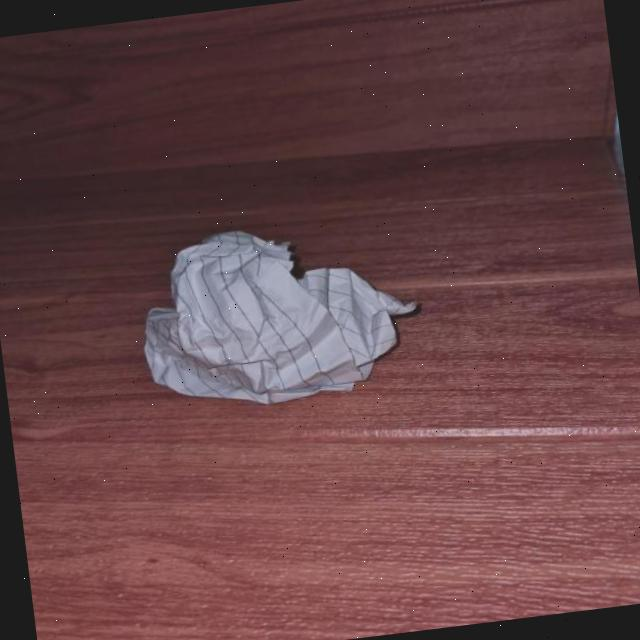trash: (103, 207, 432, 430)
